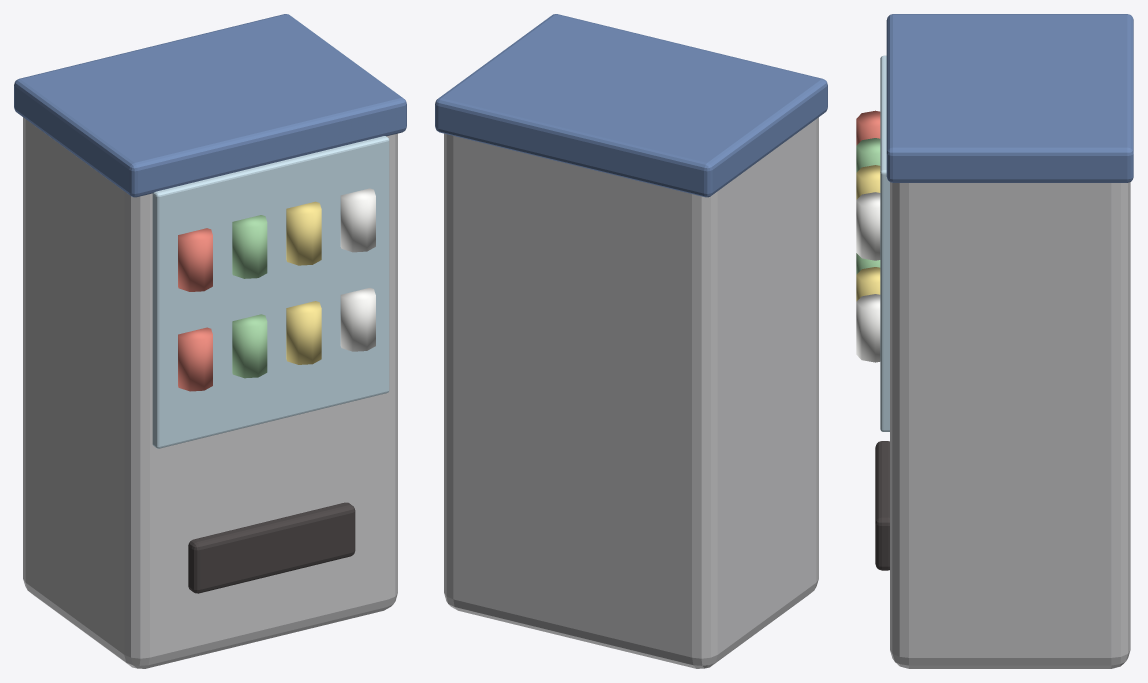
File: vending.glb
3 views of the same model, side by side, from view 1: azimuth 30°, elevation 25°; view 2: azimuth 150°, elevation 25°; view 3: azimuth 270°, elevation 25° (orthographic). The views are drawn at different scales.
Visible parts, largest first — view 1: vending; view 2: vending; view 3: vending.
Boxes of the visible parts, left/top/right/bottom form: vending: left=14, top=14, right=406, bottom=668; vending: left=435, top=14, right=827, bottom=668; vending: left=856, top=14, right=1133, bottom=668.
Size of the model in its own units: 1.02 by 1.81 by 0.865.
